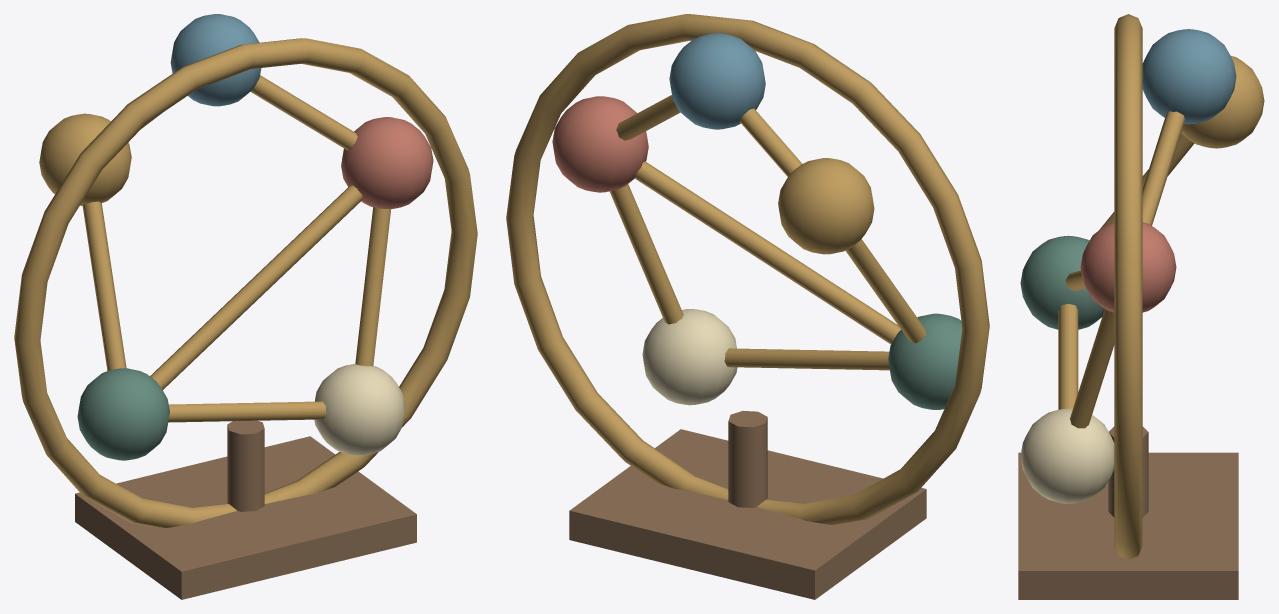
3 renders of one model, left to right at view 1: azimuth 30°, elevation 25°; view 2: azimuth 150°, elevation 25°; view 3: azimuth 270°, elevation 25°, orthographic. The views are drawn at different scales.
Size of the model in its own units: 1.37 by 1.4 by 0.615.
